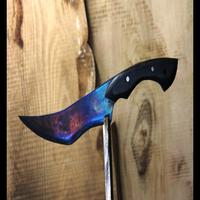knife: (16, 54, 180, 146)
